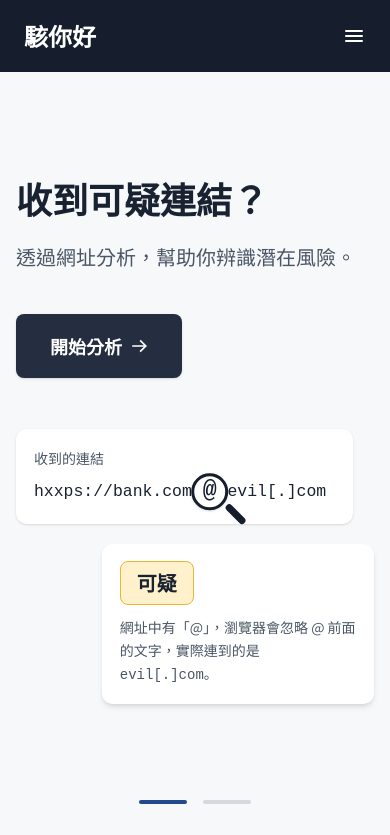
Test: 漢堡選單 › 從選單切換頁面後自動收合
Step 1. Click the button named "開啟選單" → point(354, 36), box x1=334 y1=16 x2=374 y2=56
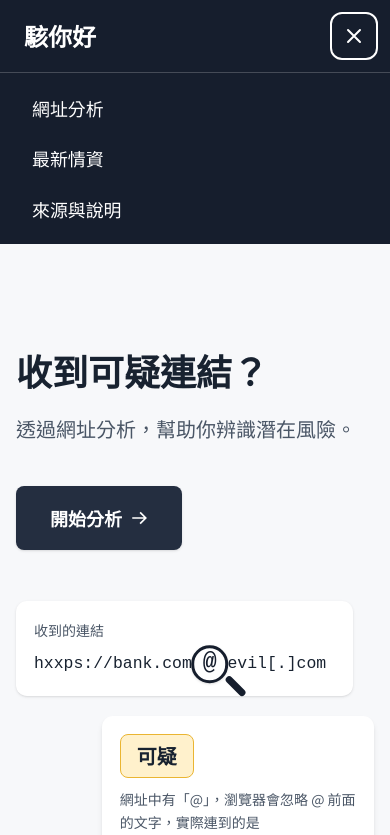
Step 2. Click the link "最新情資" → point(68, 158), box x1=32 y1=145 x2=104 y2=171
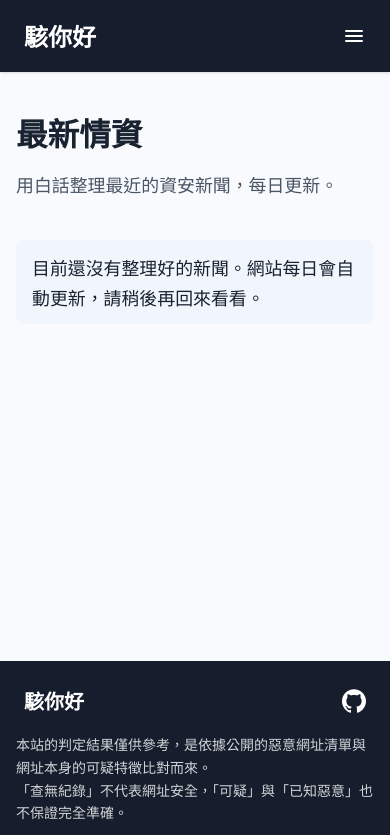
Expected: the heading "最新情資" is shown, x1=16 y1=109 x2=142 y2=155
Expected: the navigation bar "手機選單" is gone
Expected: the button named "開啟選單" is collapsed, x1=334 y1=16 x2=374 y2=56
